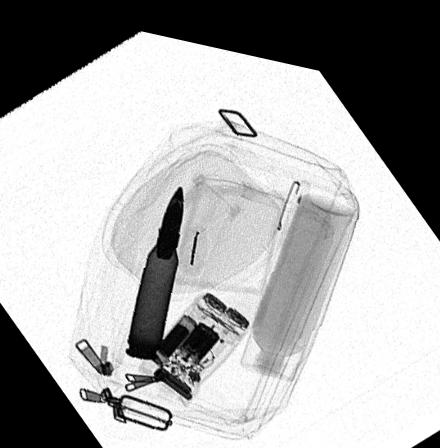Bullet: (122, 178, 183, 354)
